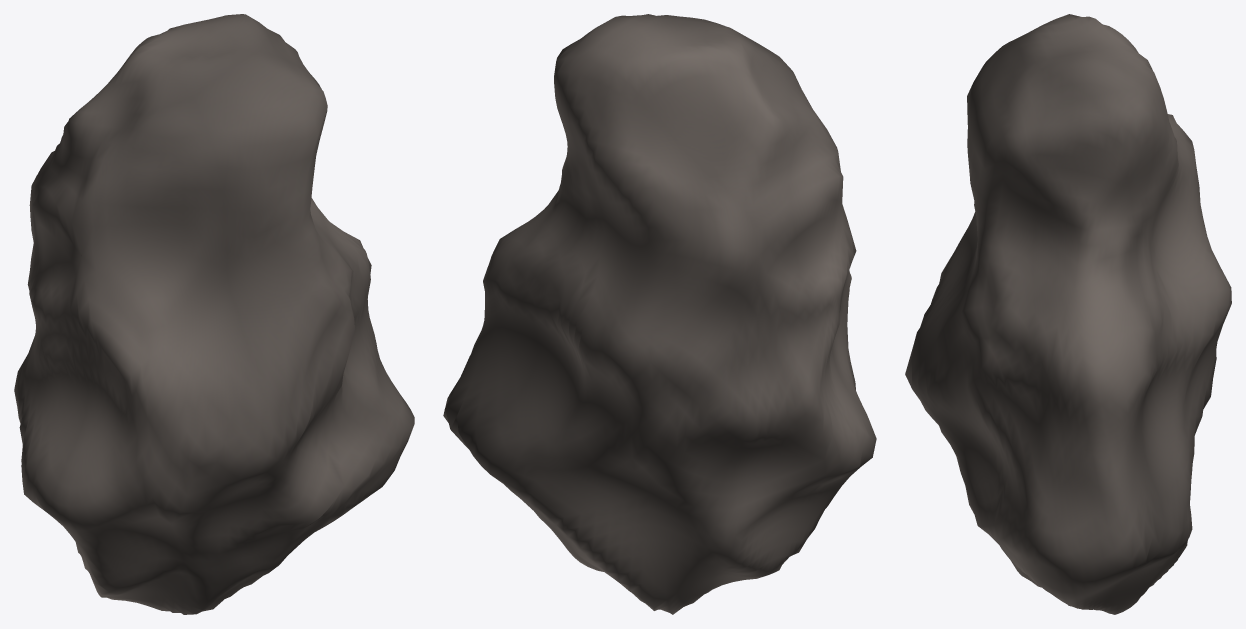
Rendered from Rock.002.fbx.
The picture shows the model from 3 angles, left to right: view 1: azimuth 30°, elevation 25°; view 2: azimuth 150°, elevation 25°; view 3: azimuth 270°, elevation 25°; orthographic projection. The views are drawn at different scales.
Parts seen in each view (by area): view 1: rock.002; view 2: rock.002; view 3: rock.002.
Boxes of the visible parts, bbox=[...] form: rock.002: bbox=[14, 14, 414, 614]; rock.002: bbox=[443, 14, 876, 614]; rock.002: bbox=[905, 14, 1231, 614].
Size of the model in its own units: 657 by 924 by 478.
Materials: 1 (1 with a texture image).
